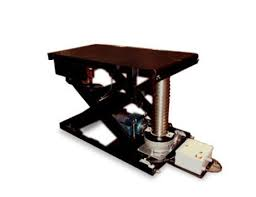Scissor Lift: (46, 42, 224, 179)
